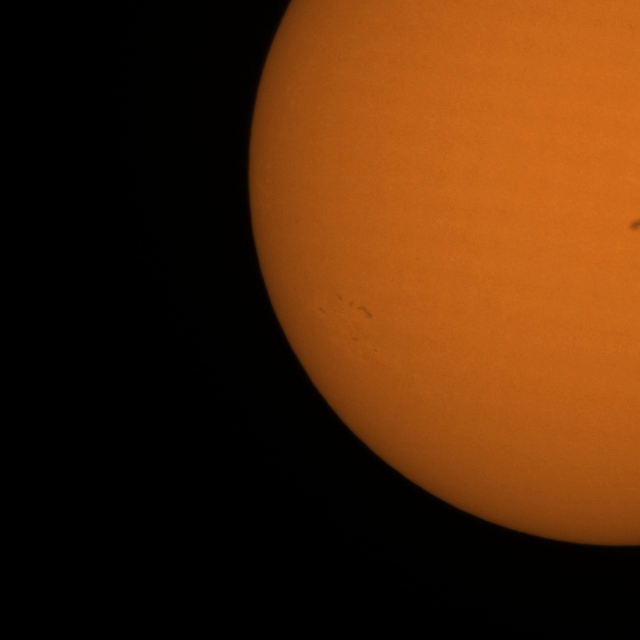sunspot: (338, 295, 374, 318), (356, 303, 374, 319), (628, 216, 640, 234), (350, 336, 359, 342), (318, 307, 325, 314), (373, 348, 378, 353)
